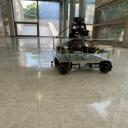cart: (52, 36, 117, 75)
